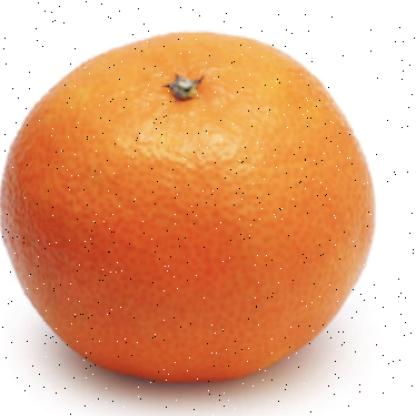fresh: (1, 32, 374, 383)
